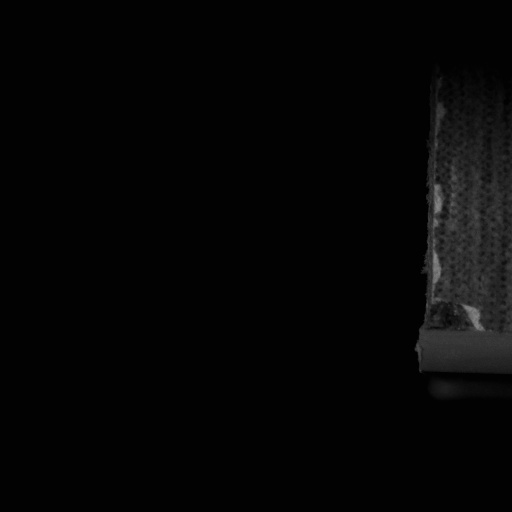bengque: (423, 298, 488, 335)
